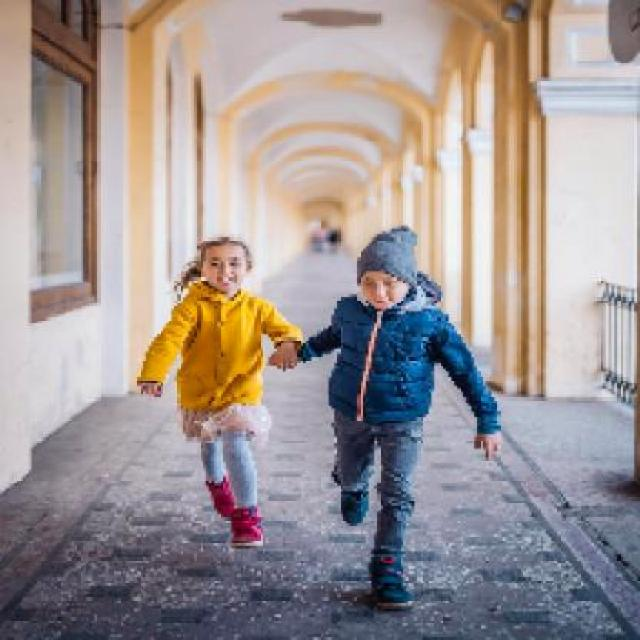child: (297, 224, 503, 610), (136, 236, 304, 550)
